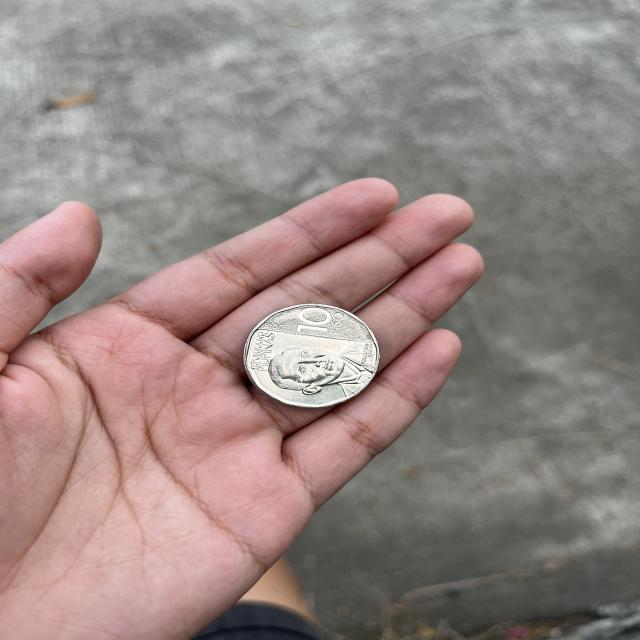10_New_Front: (287, 306, 348, 339)
